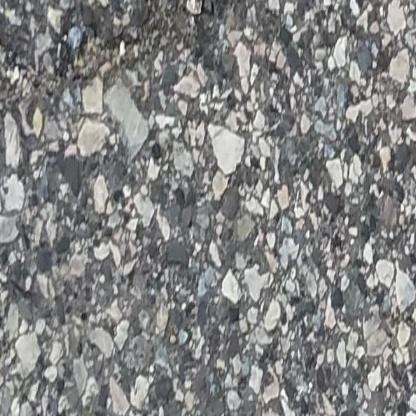Cracks: (0, 0, 258, 110)
